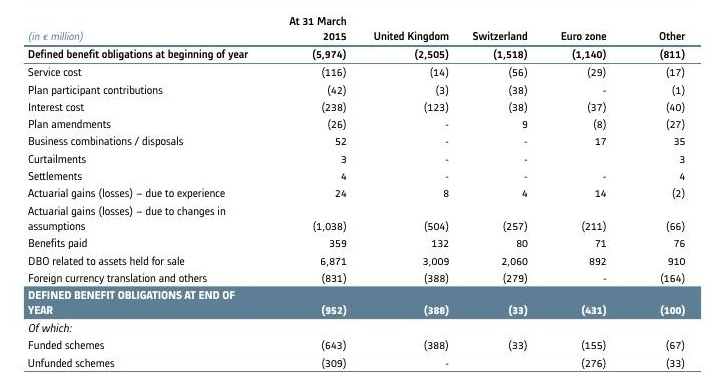table: (0, 0, 728, 390)
